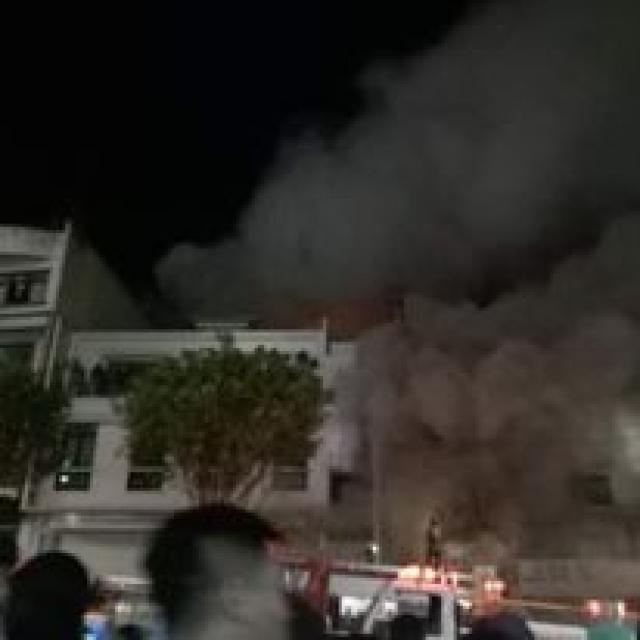Smoke: (458, 10, 640, 535), (179, 157, 583, 300), (366, 318, 508, 531)
